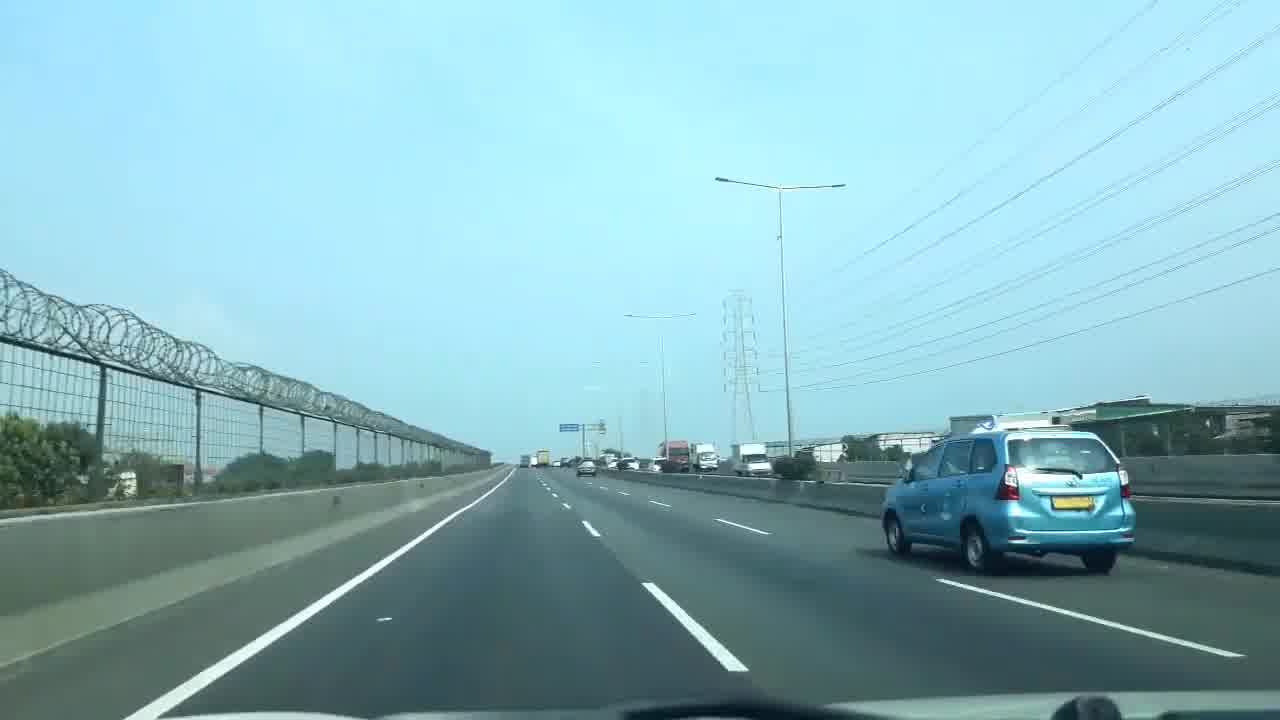plate_positive: (1050, 495, 1095, 511)
